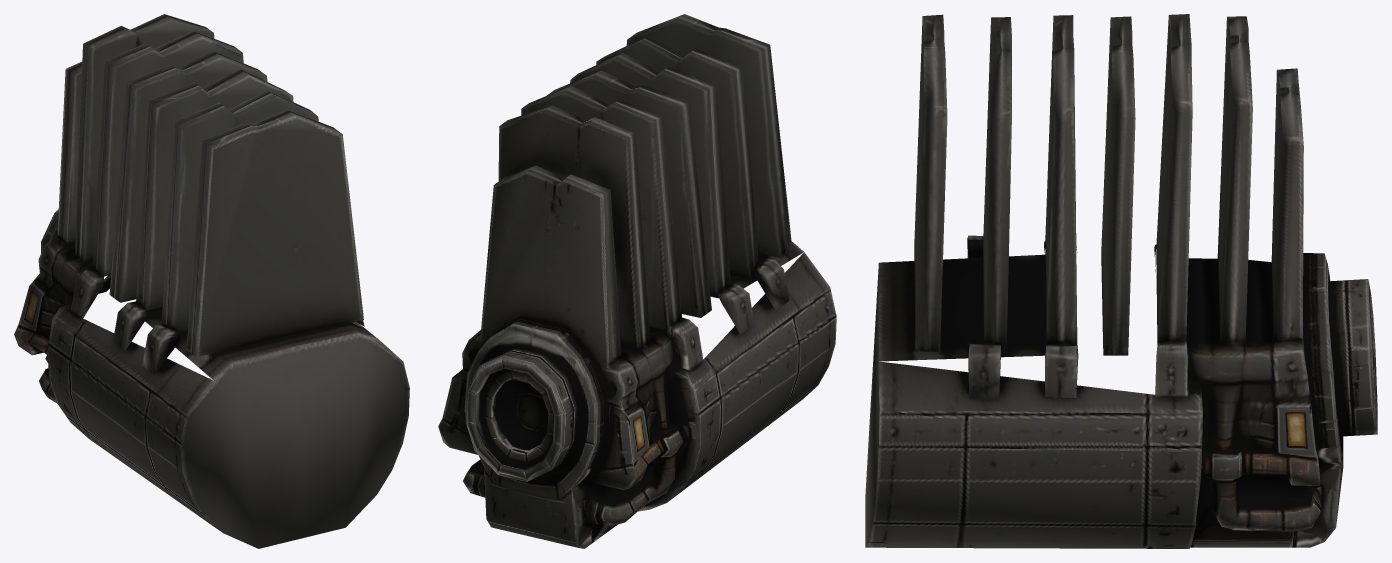
Rendered from cold-iron-v2-heatsink-a-fin-bank.glb.
3 views of the same model, side by side, from view 1: azimuth 30°, elevation 25°; view 2: azimuth 150°, elevation 25°; view 3: azimuth 270°, elevation 25° (orthographic). The views are drawn at different scales.
Parts seen in each view (by area): view 1: tripo_node_b17290f2-c716-44f1-801f-6710125c9c4a; view 2: tripo_node_b17290f2-c716-44f1-801f-6710125c9c4a; view 3: tripo_node_b17290f2-c716-44f1-801f-6710125c9c4a.
Boxes of the visible parts, box(x1,y1,x2,y2) form: tripo_node_b17290f2-c716-44f1-801f-6710125c9c4a: box(14, 14, 409, 548); tripo_node_b17290f2-c716-44f1-801f-6710125c9c4a: box(438, 14, 836, 548); tripo_node_b17290f2-c716-44f1-801f-6710125c9c4a: box(865, 14, 1377, 548).
Size of the model in its own units: 0.5957 by 0.998 by 0.9629.
1 material, 1 textured.
